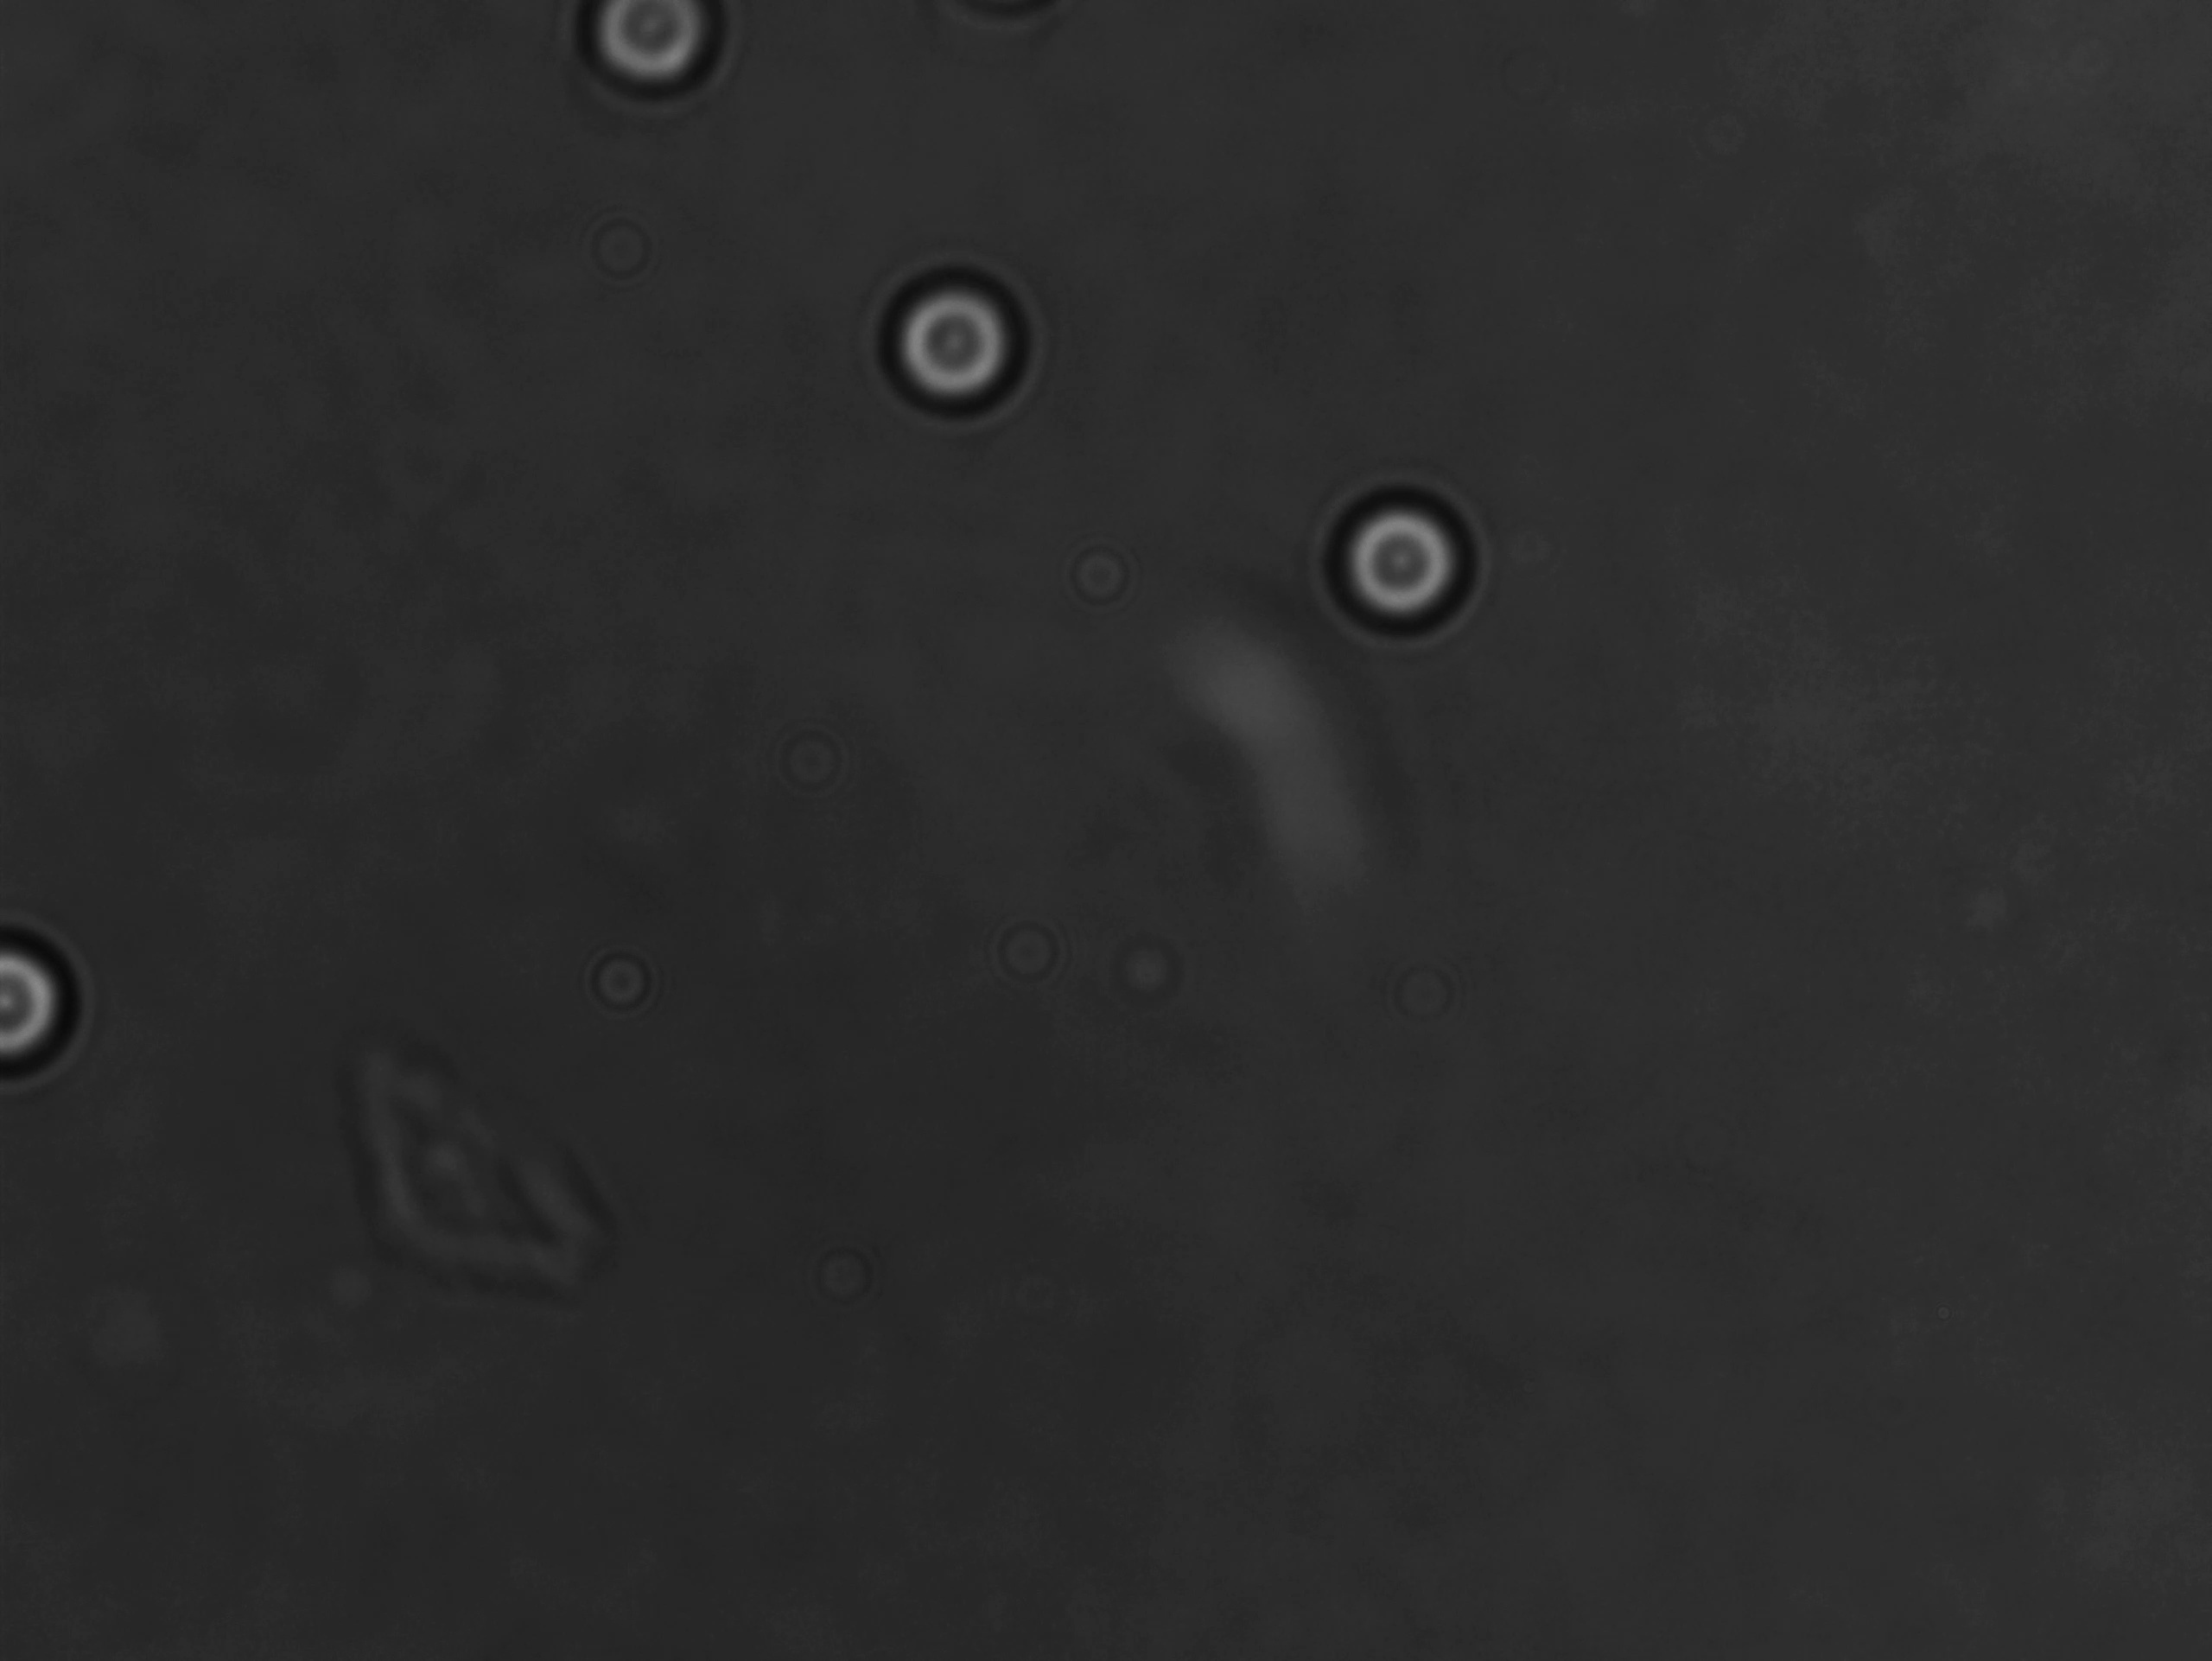depth:40: (872, 256, 1054, 426), (1314, 468, 1488, 637)
